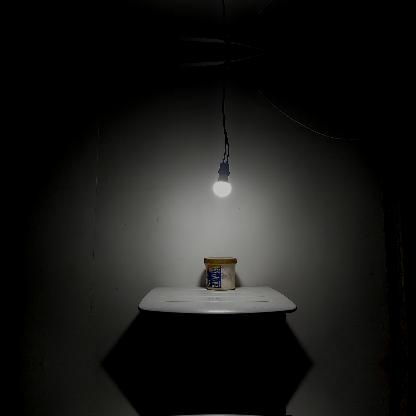Lady-s-Choice: (204, 256, 236, 290)
